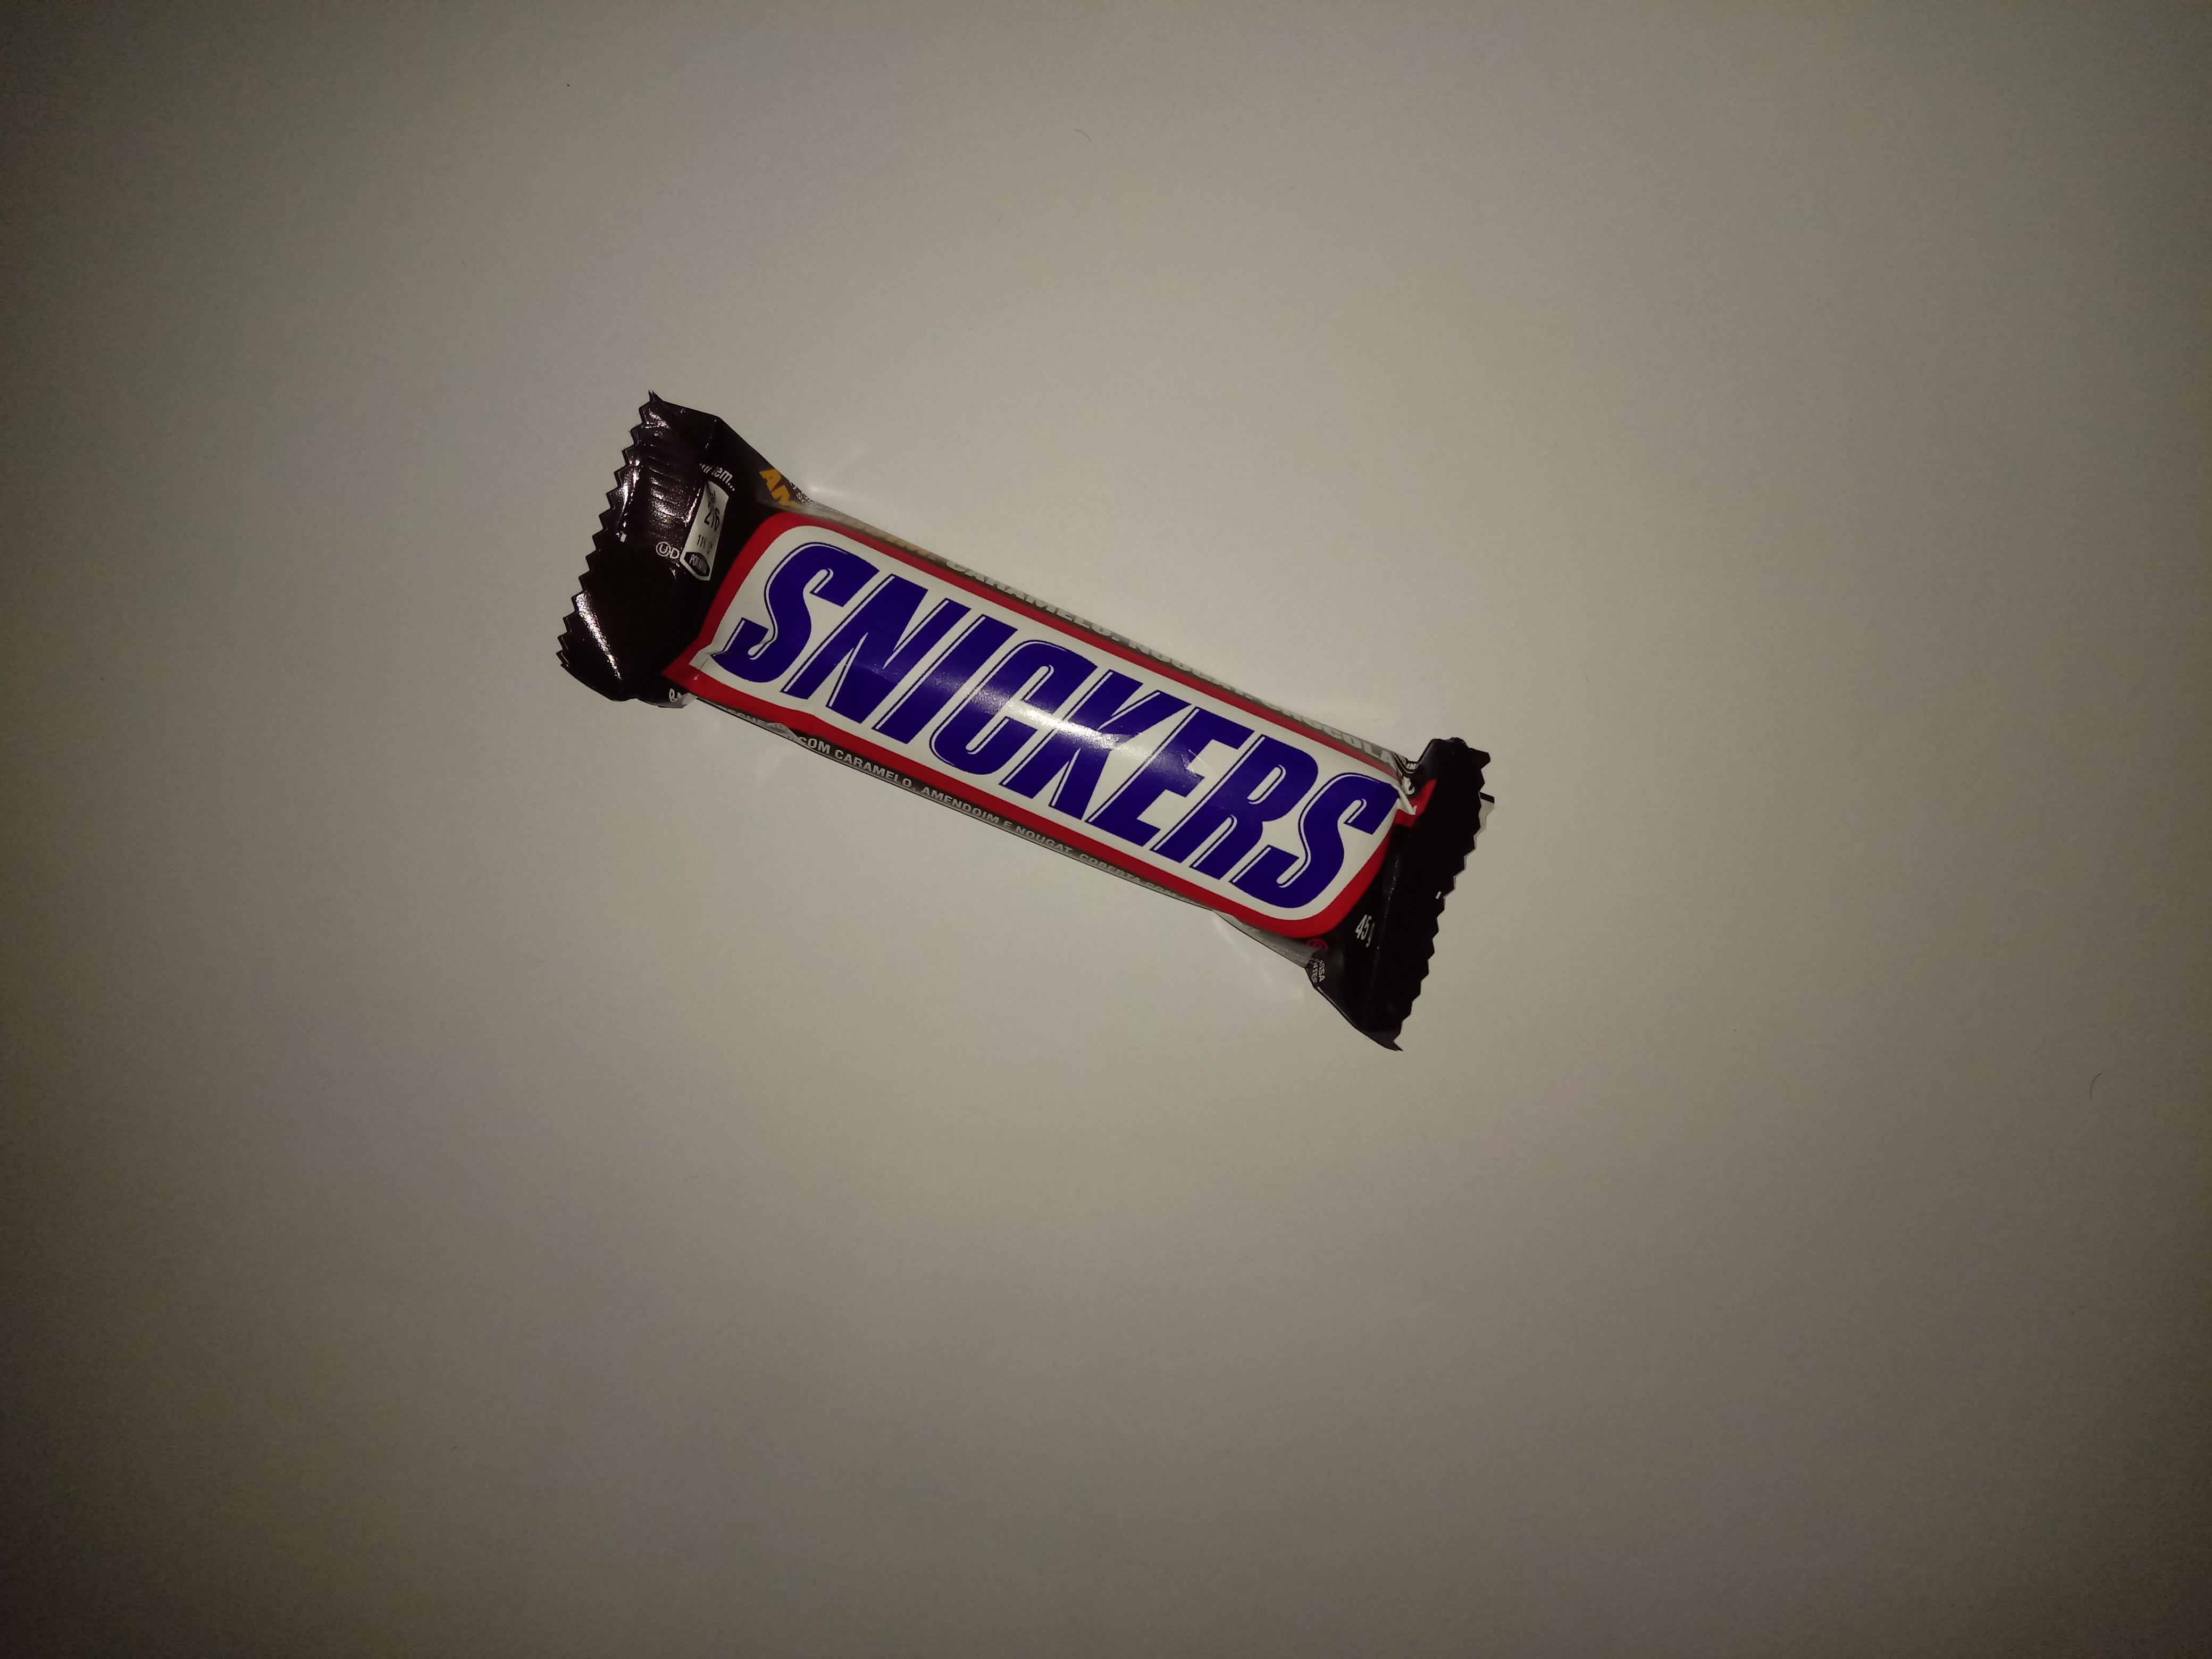snickers: (523, 362, 1517, 1077)
